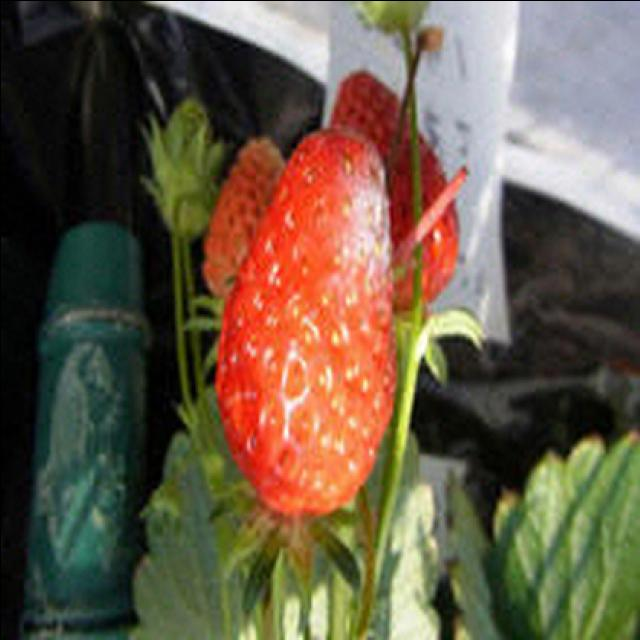Powdery Mildew Fruit: (312, 128, 393, 323)
